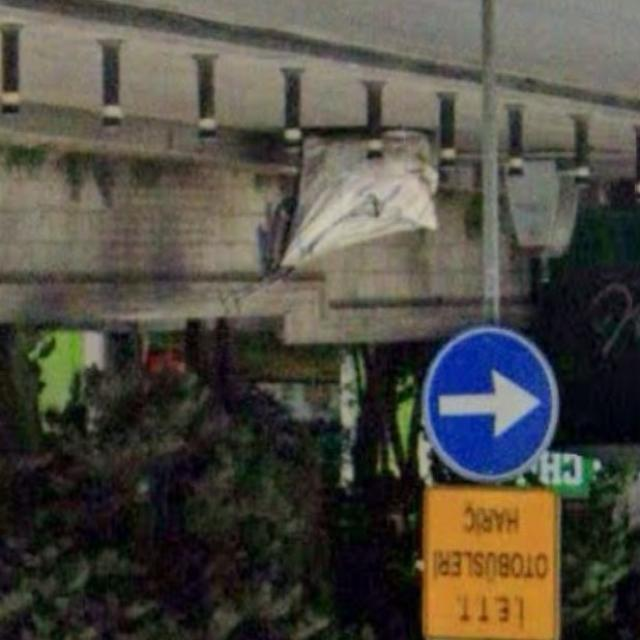Turn Right: (429, 332, 554, 484)
